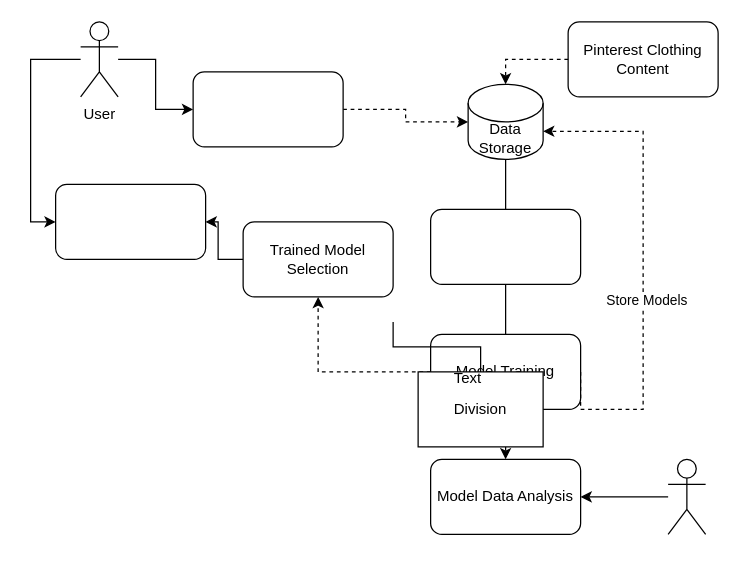
Image size: 743x583. Some labels were removed from this diagram. Here are the shapes that lost their labels. From the top down, the centre of each, then its label:
pixel 267 109: Clothing Input Data
pixel 130 221: Outfit Recommendations
pixel 505 246: Reshape and Normalize Data
pixel 686 496: Developer
